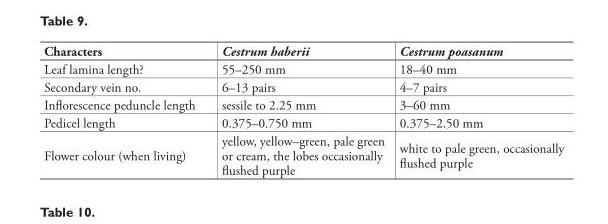table: (43, 42, 563, 178)
table column: (204, 42, 388, 178), (388, 42, 563, 178), (43, 42, 204, 178)
table column header: (43, 42, 563, 59)
table row: (43, 131, 563, 178), (43, 59, 563, 78), (43, 95, 563, 113), (43, 113, 563, 131), (43, 42, 563, 59), (43, 78, 563, 95)
